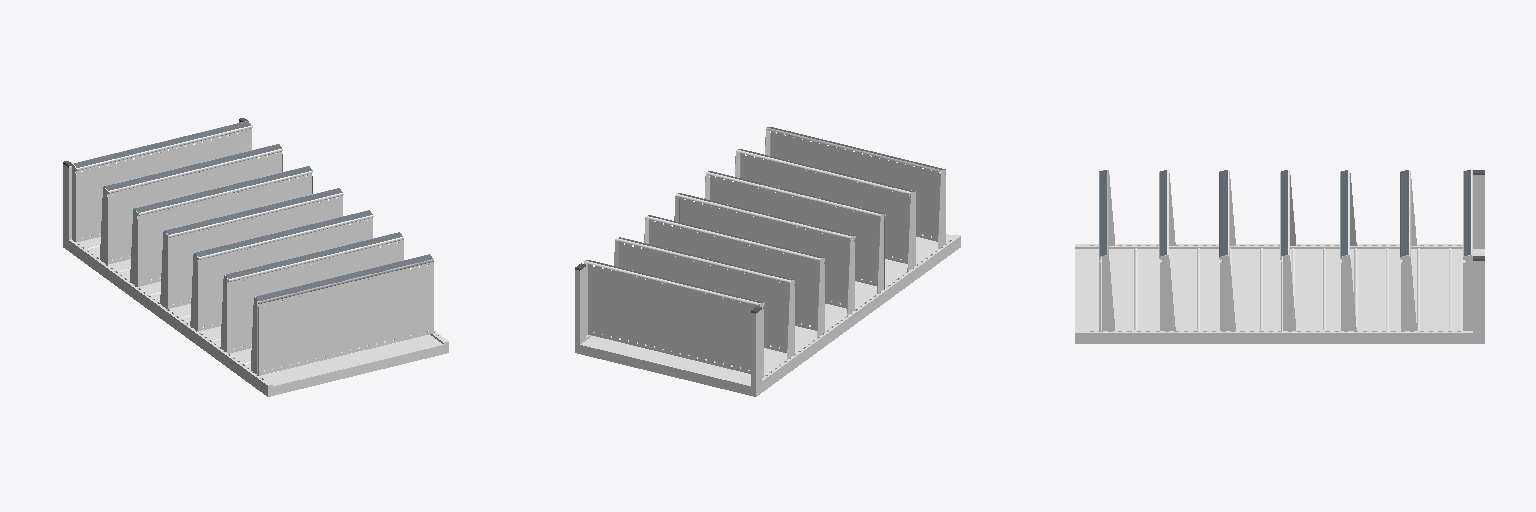
File: aisle_shelf.obj
3 views of the same model, side by side, from view 1: azimuth 30°, elevation 25°; view 2: azimuth 150°, elevation 25°; view 3: azimuth 270°, elevation 25° (orthographic).
Visible parts, largest first — view 1: aisle_shelf; view 2: aisle_shelf; view 3: aisle_shelf.
Part boxes in pixels (x1,y1,x2,y2): aisle_shelf: (63,118,448,396); aisle_shelf: (575,127,960,396); aisle_shelf: (1075,169,1484,343).
Size of the model in its own units: 1 by 0.4626 by 1.96.